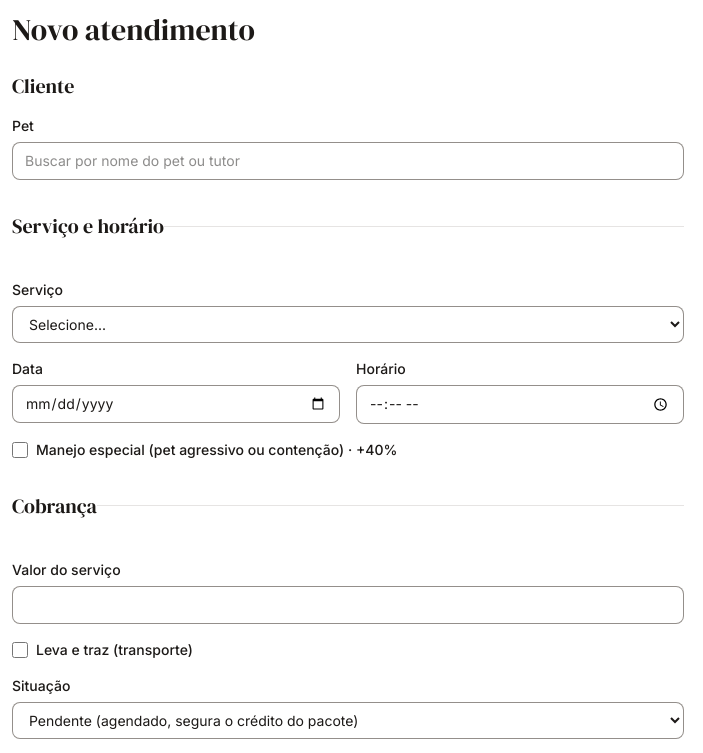
AtendimentoForm › pet sem pacote valendo na data avisa que o banho é avulso
In the dropdown labelled "Pet": (348, 161) [12, 142, 684, 180], type "Luna"
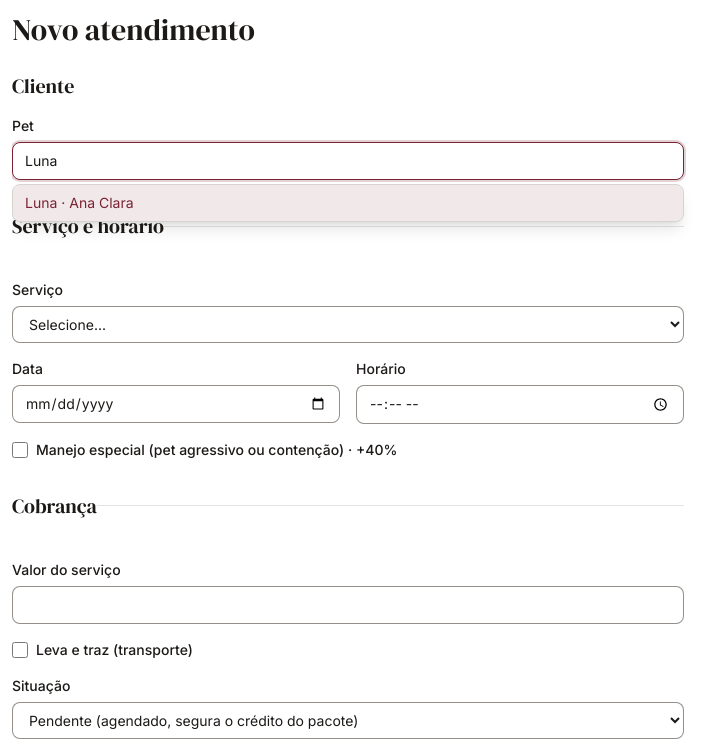
Result: the option "Luna · Ana Clara" is shown
Click the option "Luna · Ana Clara": click(79, 202) [13, 185, 683, 221]
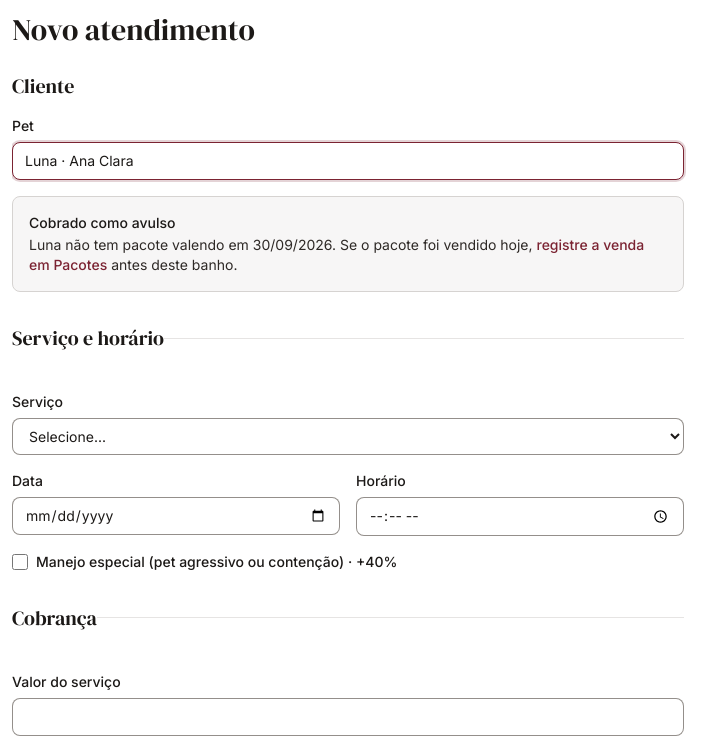
Result: the text "Cobrado como avulso" is shown at [29, 214, 175, 231]
Result: the text "não tem pacote valendo em" is shown at [61, 236, 253, 253]
